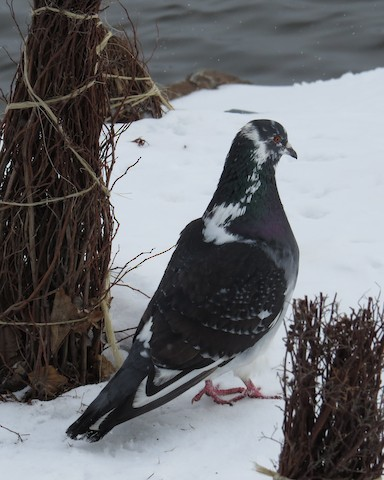pigeon: (66, 113, 304, 447)
